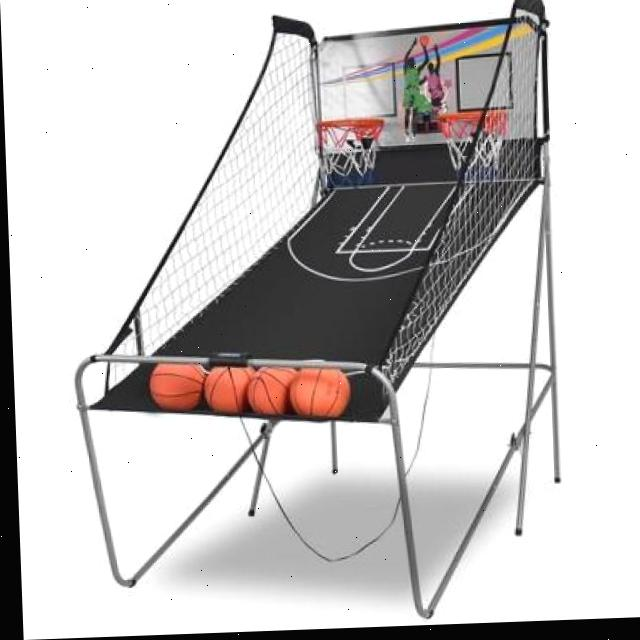Basketball: (289, 367, 351, 422), (150, 361, 207, 413), (204, 364, 258, 415), (247, 366, 299, 417)
hoop: (438, 109, 511, 183), (313, 117, 387, 189)
